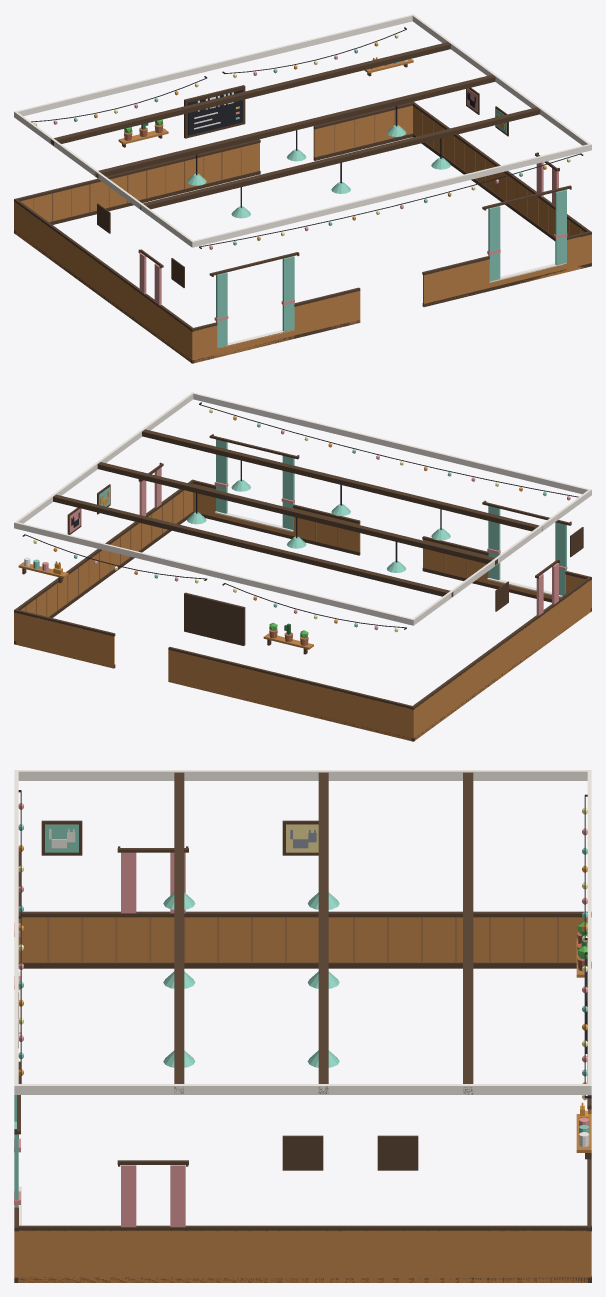
File: CatCafe_Plot_Interior.fbx
The picture shows the model from 3 angles, top to bottom: view 1: azimuth 30°, elevation 25°; view 2: azimuth 150°, elevation 25°; view 3: azimuth 270°, elevation 25°; orthographic projection. The views are drawn at different scales.
Visible parts, largest first — view 1: CatCafe_Plot_Interior, CatCafe_Plot_Interior_StringLights_Bulbs; view 2: CatCafe_Plot_Interior, CatCafe_Plot_Interior_StringLights_Bulbs; view 3: CatCafe_Plot_Interior, CatCafe_Plot_Interior_StringLights_Bulbs.
Boxes of the visible parts, x1,y1,x2,y2 form: CatCafe_Plot_Interior: [14, 14, 591, 363]; CatCafe_Plot_Interior_StringLights_Bulbs: [33, 34, 570, 249]; CatCafe_Plot_Interior: [14, 392, 591, 741]; CatCafe_Plot_Interior_StringLights_Bulbs: [33, 408, 570, 632]; CatCafe_Plot_Interior: [14, 770, 591, 1282]; CatCafe_Plot_Interior_StringLights_Bulbs: [18, 803, 587, 1100].
Bounding box in the file's own units: 44.02 × 12.8 × 34.03.
1 material, 1 textured.
